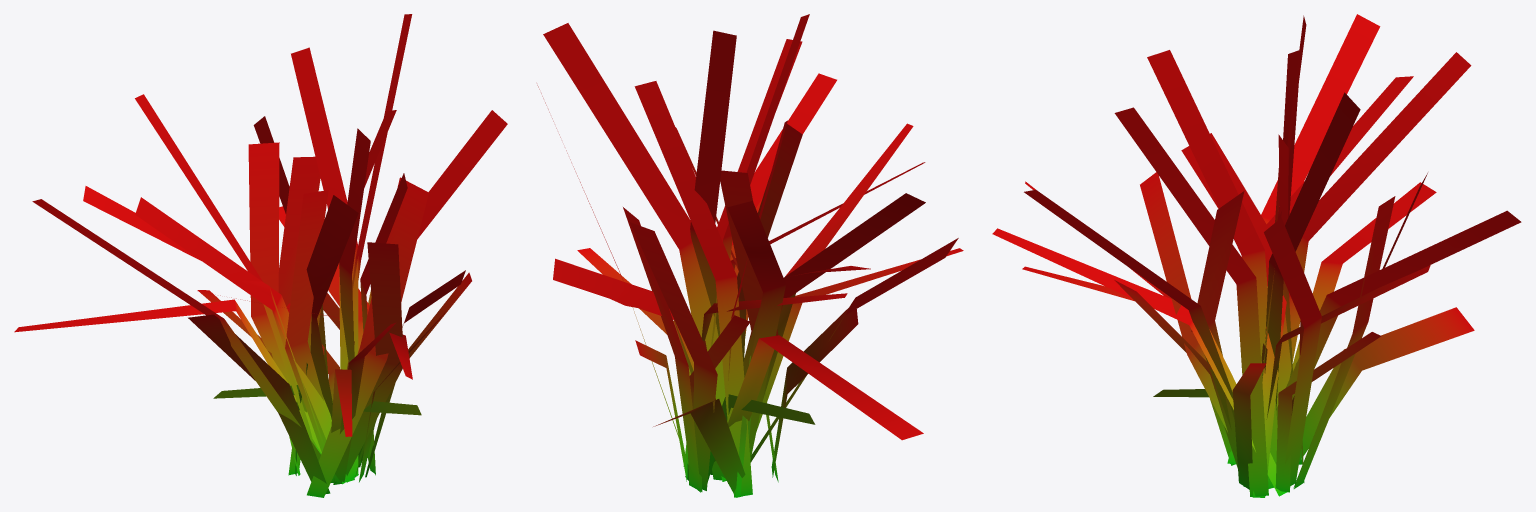
The model's file is Var2_LOD2.fbx.
The picture shows the model from 3 angles, left to right: view 1: azimuth 30°, elevation 25°; view 2: azimuth 150°, elevation 25°; view 3: azimuth 270°, elevation 25°; orthographic projection. The views are drawn at different scales.
Parts seen in each view (by area): view 1: _b6ae_Var2_LOD2; view 2: _b6ae_Var2_LOD2; view 3: _b6ae_Var2_LOD2.
Boxes of the visible parts, left/top/right/bottom form: _b6ae_Var2_LOD2: left=14, top=14, right=507, bottom=497; _b6ae_Var2_LOD2: left=537, top=14, right=963, bottom=497; _b6ae_Var2_LOD2: left=992, top=14, right=1521, bottom=497.
Size of the model in its own units: 52.46 by 49.79 by 52.85.
